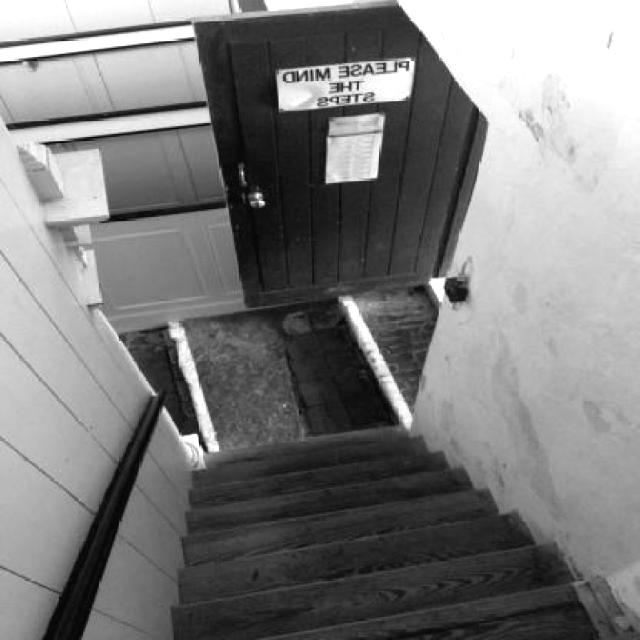stair: (172, 417, 623, 640)
